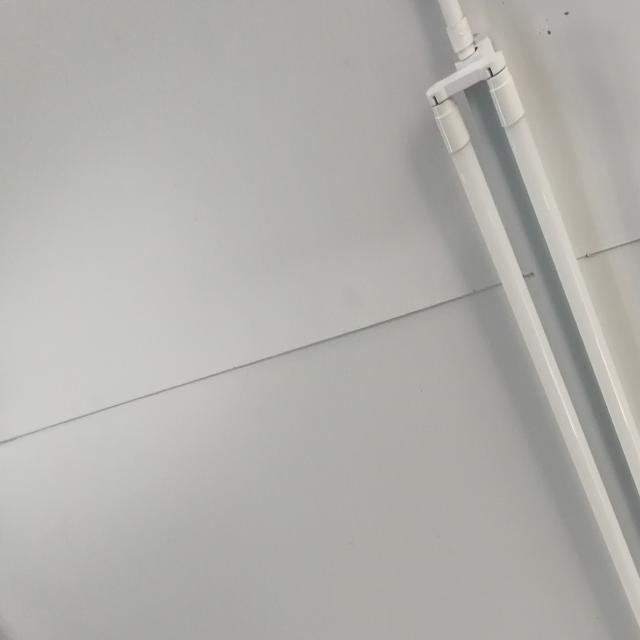fluorescent tube: (408, 38, 640, 640)
